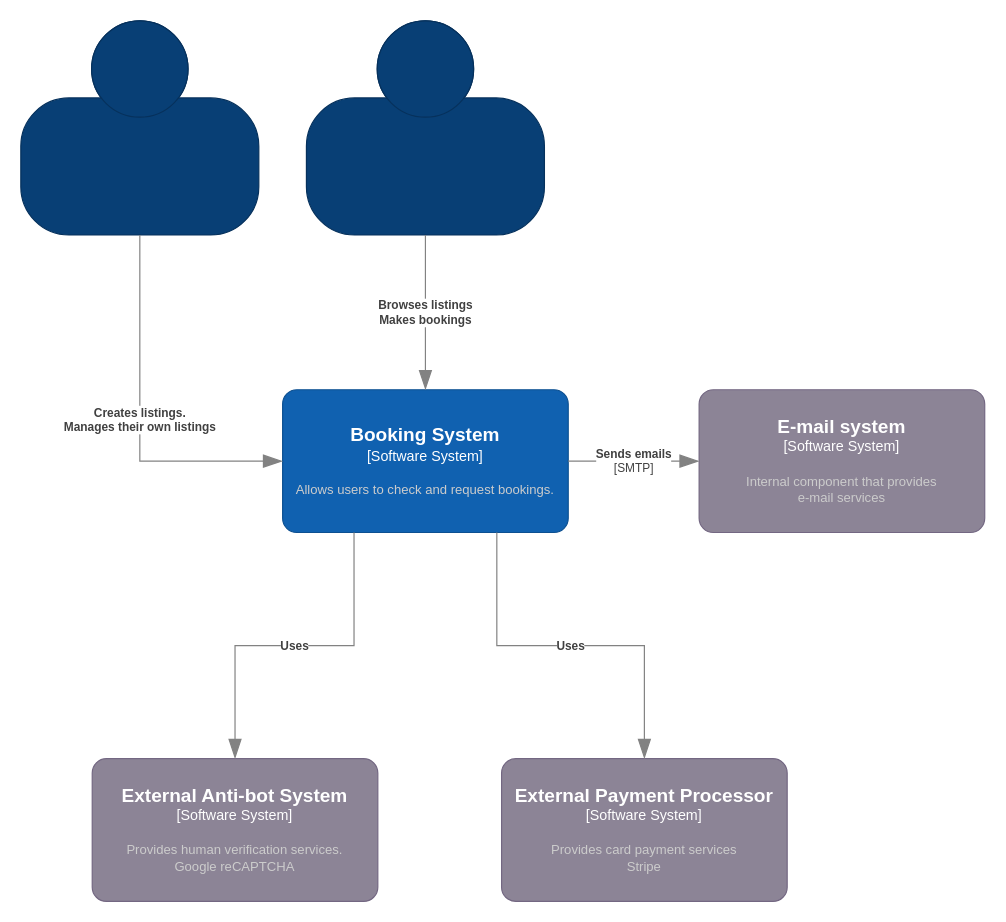
Some shapes in this 1006 by 922 pixel diagram are drawn without their labels. The shapes that lost their labels are listed below. From the top down, each one's centre as x and y in pixels, then its label:
At point (139, 127): "Listing author [Person] Puts up a place for rent".
At point (424, 127): "Client [Person] A customer, looking to book a place.".
